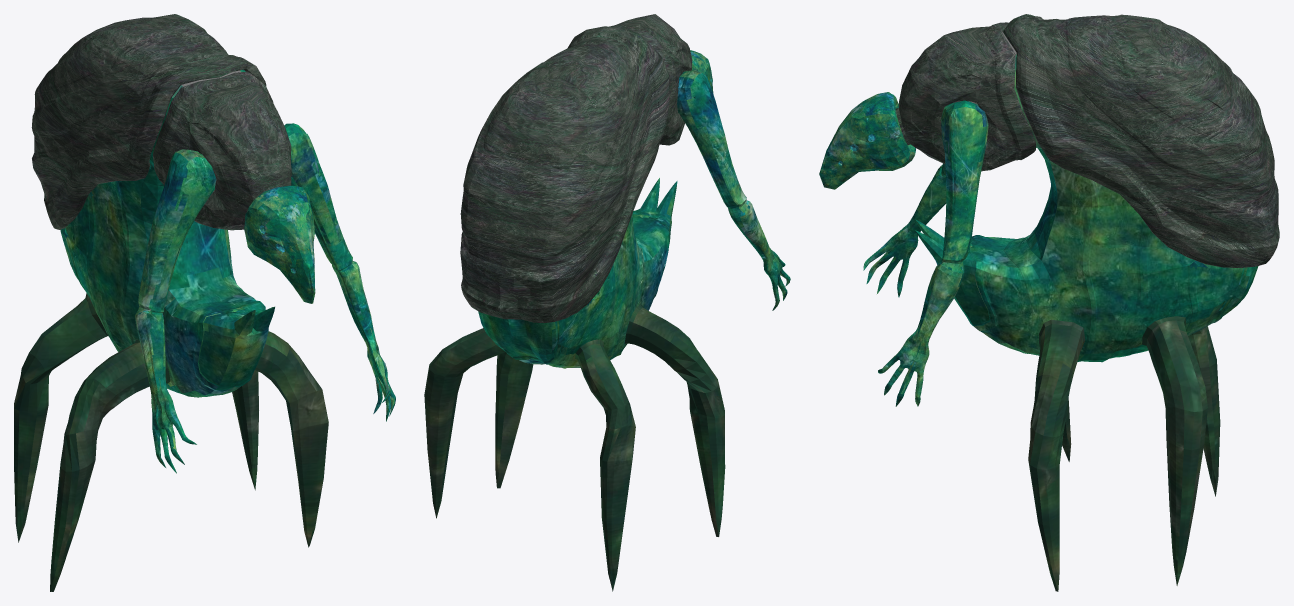
Rendered from Andar.0018.obj.
3 renders of one model, left to right at view 1: azimuth 30°, elevation 25°; view 2: azimuth 150°, elevation 25°; view 3: azimuth 270°, elevation 25°, orthographic. The views are drawn at different scales.
Bounding box in the file's own units: 2.08 × 3.96 × 3.2.
5 materials, 4 textured.
